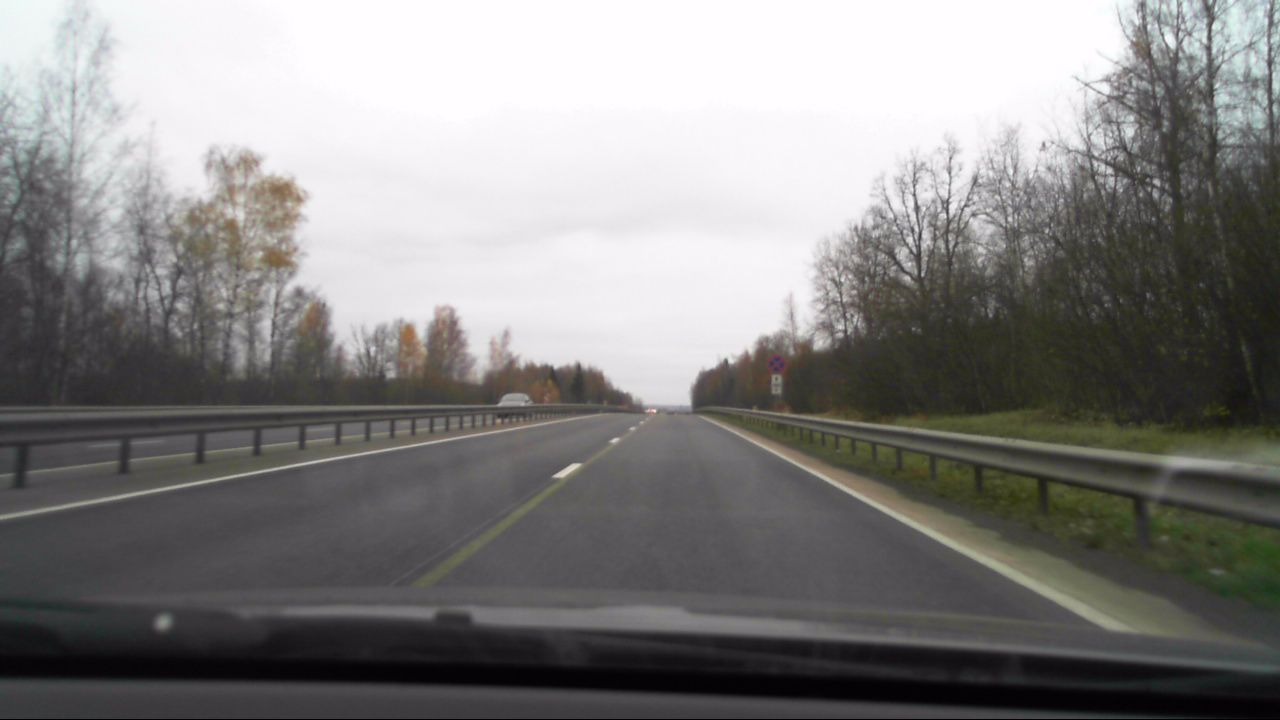No Parking: (766, 353, 786, 372)
